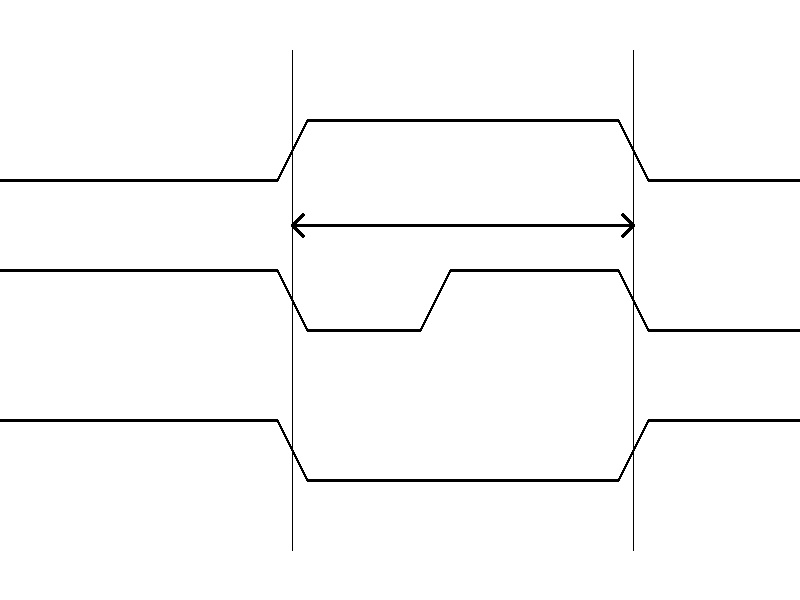double_arrow: (292, 210, 633, 240)
